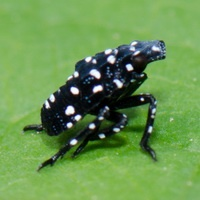insect: (23, 40, 165, 170)
